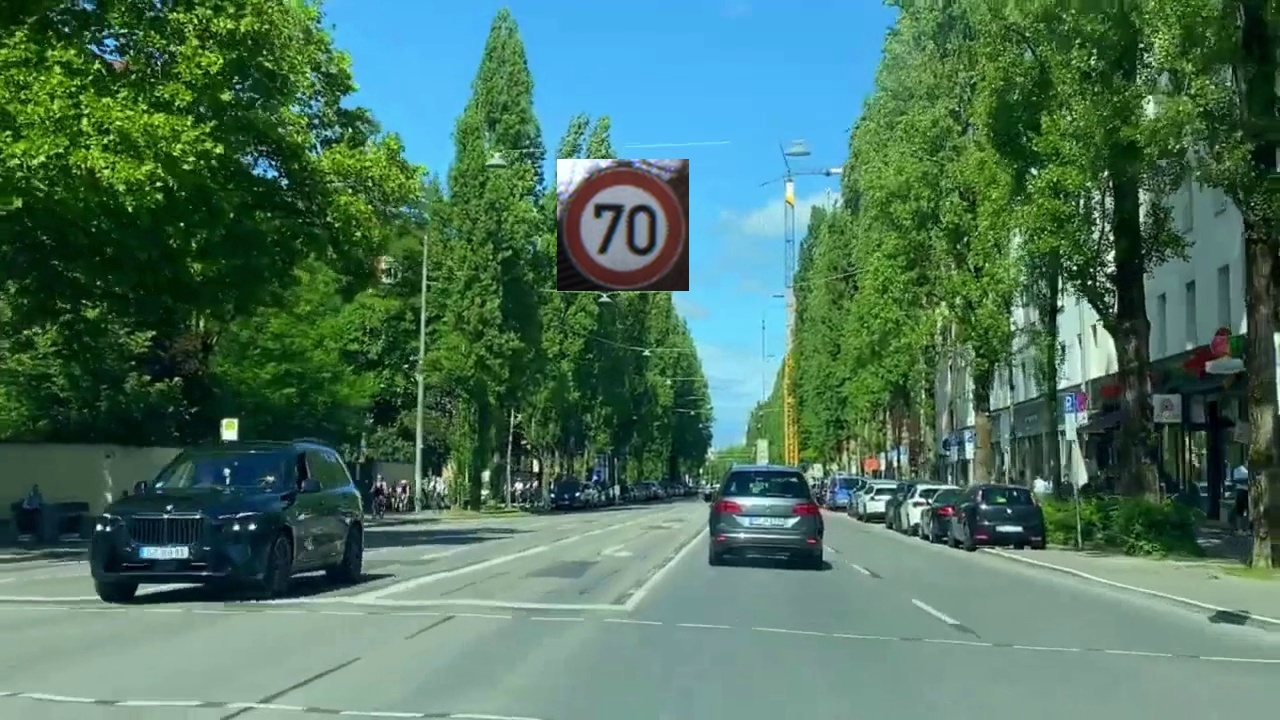Speed 70: (557, 159, 689, 291)
